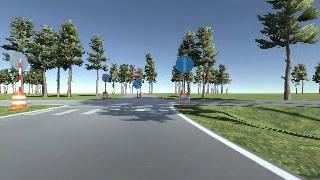go_ahead: (175, 55, 192, 73)
